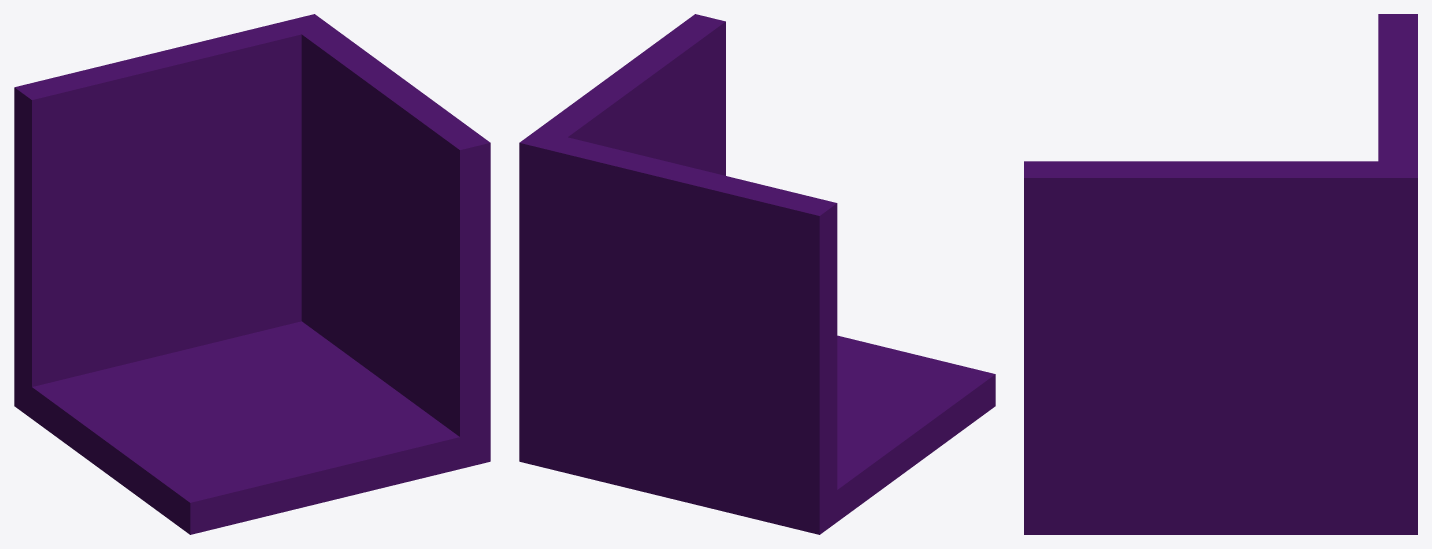
Rendered from Room_ReceptionRoom.glb.
3 renders of one model, left to right at view 1: azimuth 30°, elevation 25°; view 2: azimuth 150°, elevation 25°; view 3: azimuth 270°, elevation 25°, orthographic. The views are drawn at different scales.
Visible parts, largest first — view 1: ROOM.001; view 2: ROOM.001; view 3: ROOM.001.
Boxes of the visible parts, x1,y1,x2,y2 form: ROOM.001: [14, 14, 490, 534]; ROOM.001: [519, 14, 995, 534]; ROOM.001: [1024, 14, 1417, 534].
Size of the model in its own units: 3.51 by 3.56 by 3.56.
1 material, 1 textured.
